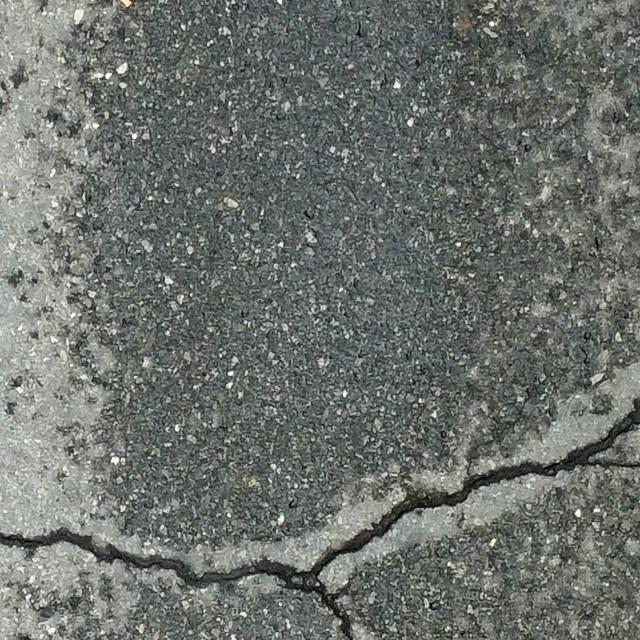TransverseCrack: (2, 393, 640, 594)
